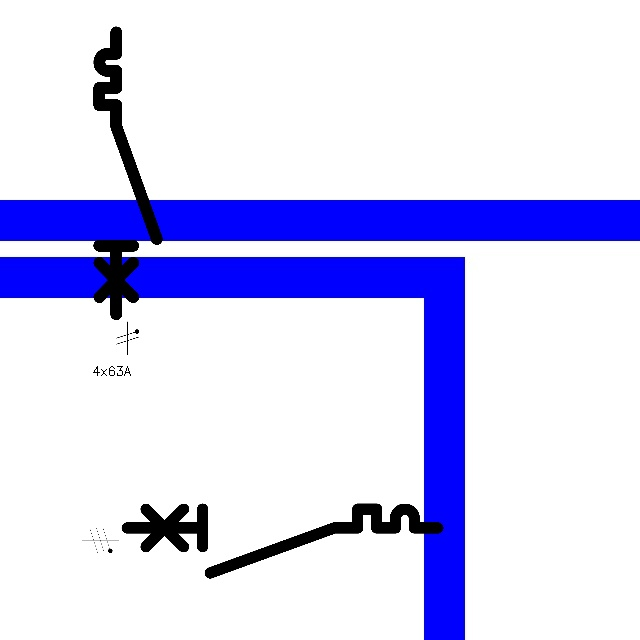interruptor_termomagnetico: (119, 501, 446, 581), (92, 25, 164, 321)
